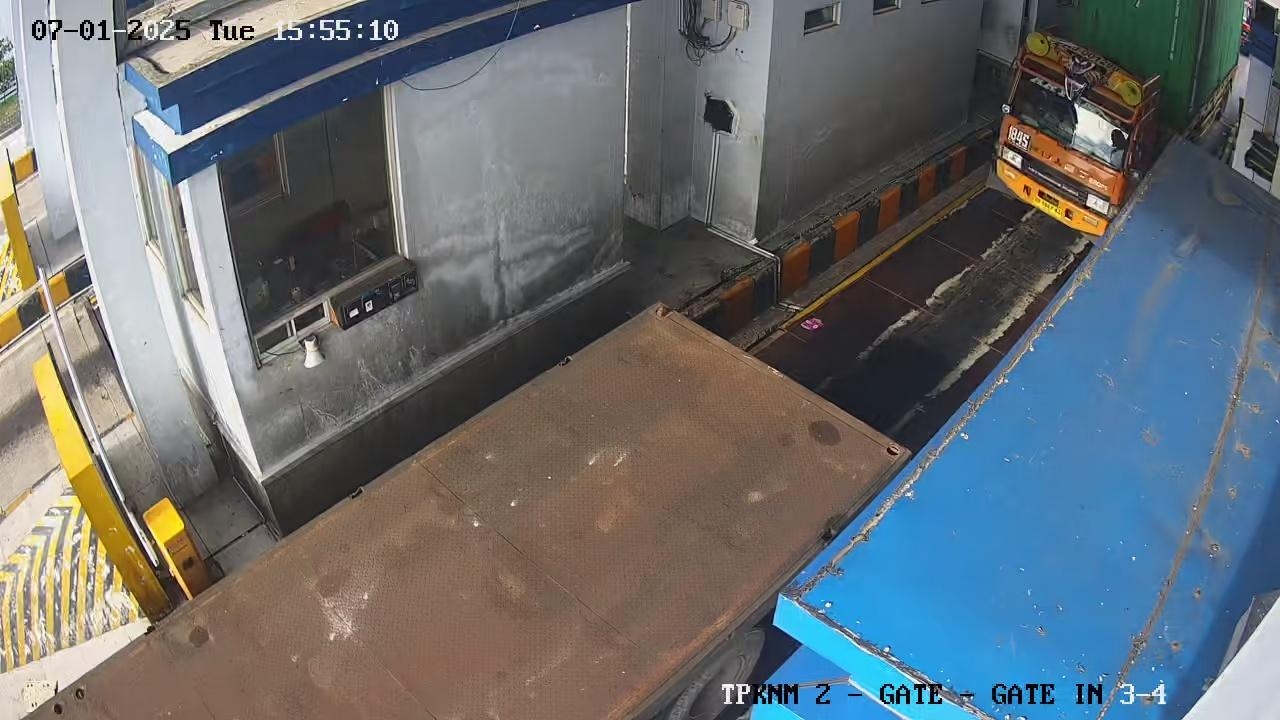truck_id: (1007, 117, 1034, 157)
